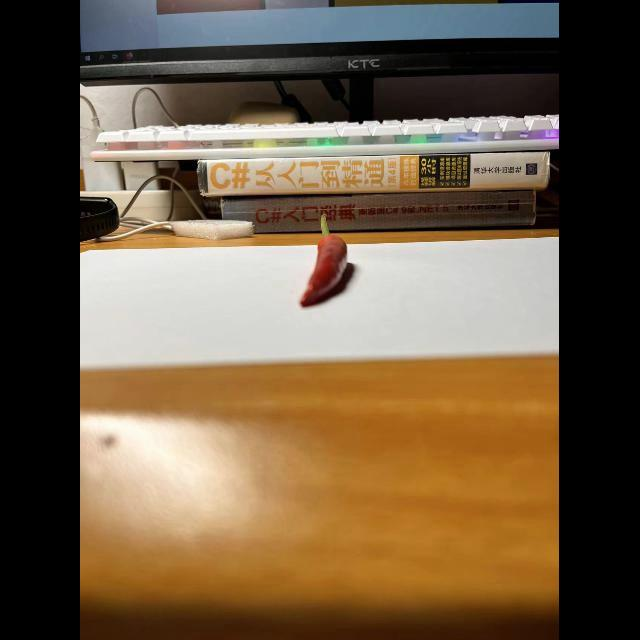chili_pepper: (299, 234, 358, 314)
